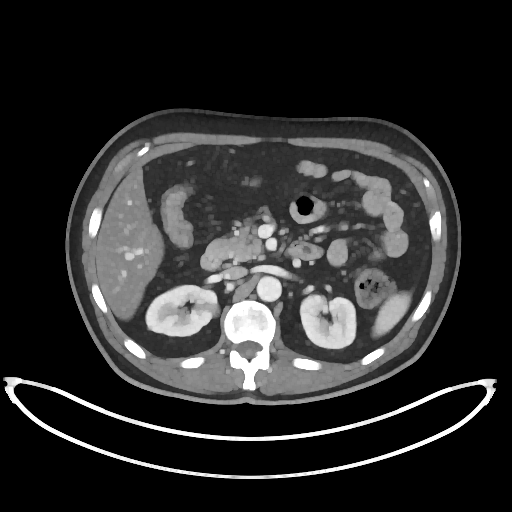Lesion: (205, 297, 222, 321)
